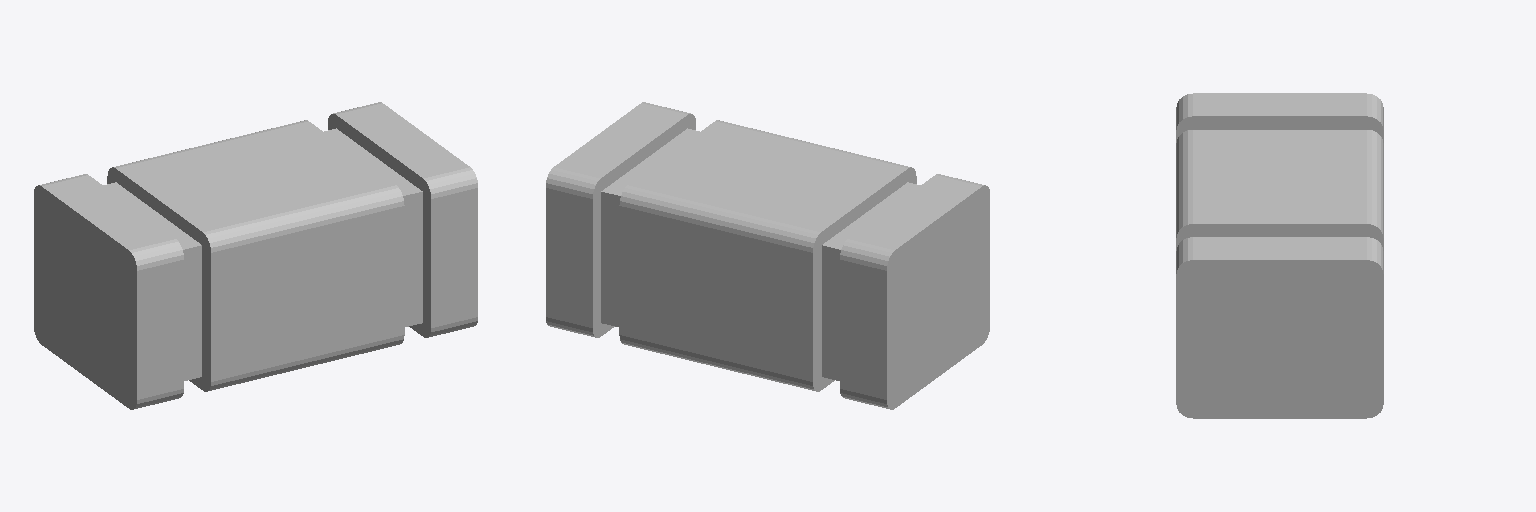
File: slide.obj
3 views of the same model, side by side, from view 1: azimuth 30°, elevation 25°; view 2: azimuth 150°, elevation 25°; view 3: azimuth 270°, elevation 25° (orthographic).
Parts seen in each view (by area): view 1: slide; view 2: slide; view 3: slide.
Boxes of the visible parts, <box> form: slide: <box>34,102,477,409</box>; slide: <box>546,102,989,409</box>; slide: <box>1176,93,1383,418</box>.
Size of the model in its own units: 0.7248 by 0.3215 by 0.3812.